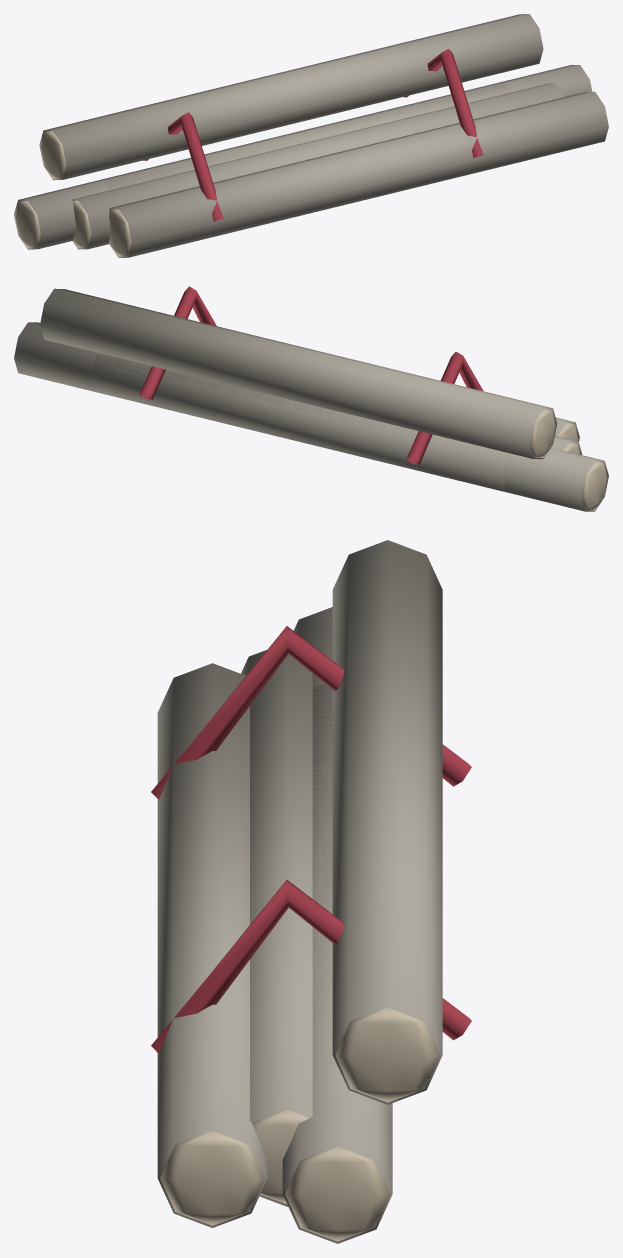
The model's file is ing_ash_wood.glb.
3 views of the same model, one above another, from view 1: azimuth 30°, elevation 25°; view 2: azimuth 150°, elevation 25°; view 3: azimuth 270°, elevation 25° (orthographic). The views are drawn at different scales.
Visible parts, largest first — view 1: ing_ash_wood; view 2: ing_ash_wood; view 3: ing_ash_wood.
Part boxes in pixels (bbox=[...]): ing_ash_wood: bbox=[14, 14, 608, 257]; ing_ash_wood: bbox=[14, 286, 608, 511]; ing_ash_wood: bbox=[151, 540, 471, 1243].
Size of what is drawn, in the model's own units: 0.8256 by 0.1563 by 0.2054.
